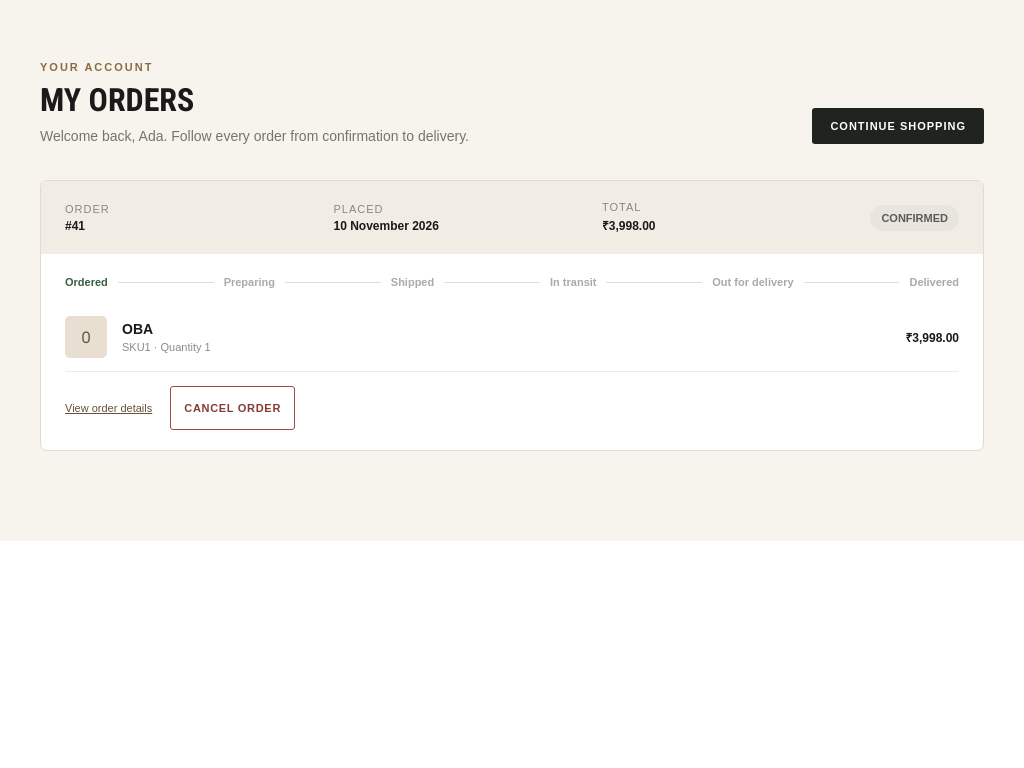
an order without a shipment says the estimate is pending
Expected: the text "#41" is shown, x1=65 y1=218 x2=85 y2=232
Click the button "View order details".
click(109, 408)  # box x1=65 y1=402 x2=152 y2=414
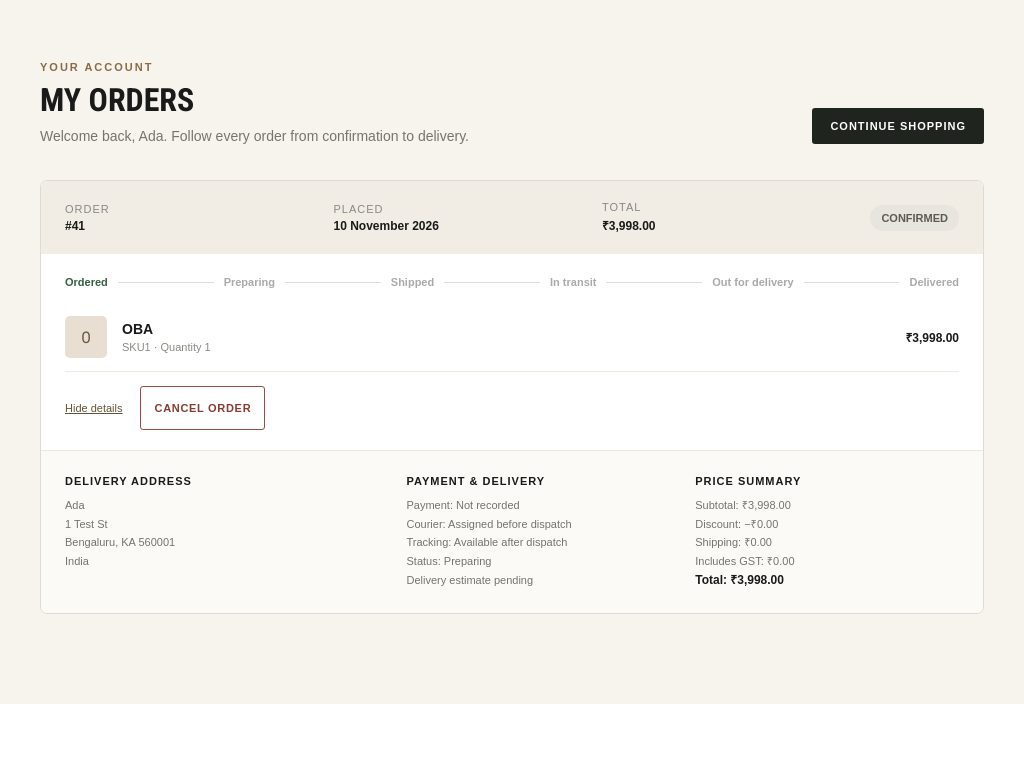
Now the text "Delivery estimate pending" is shown, box x1=406 y1=574 x2=533 y2=586
